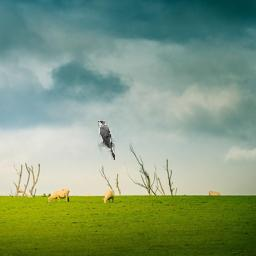Cuckoo: (98, 120, 115, 160)
